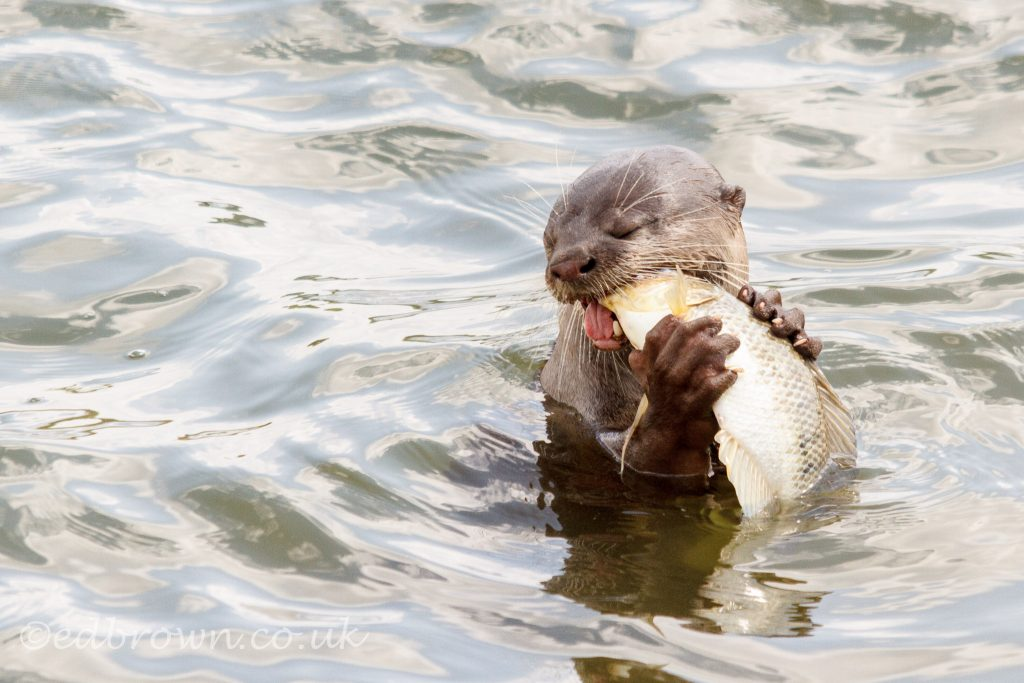otter: (515, 134, 830, 480)
